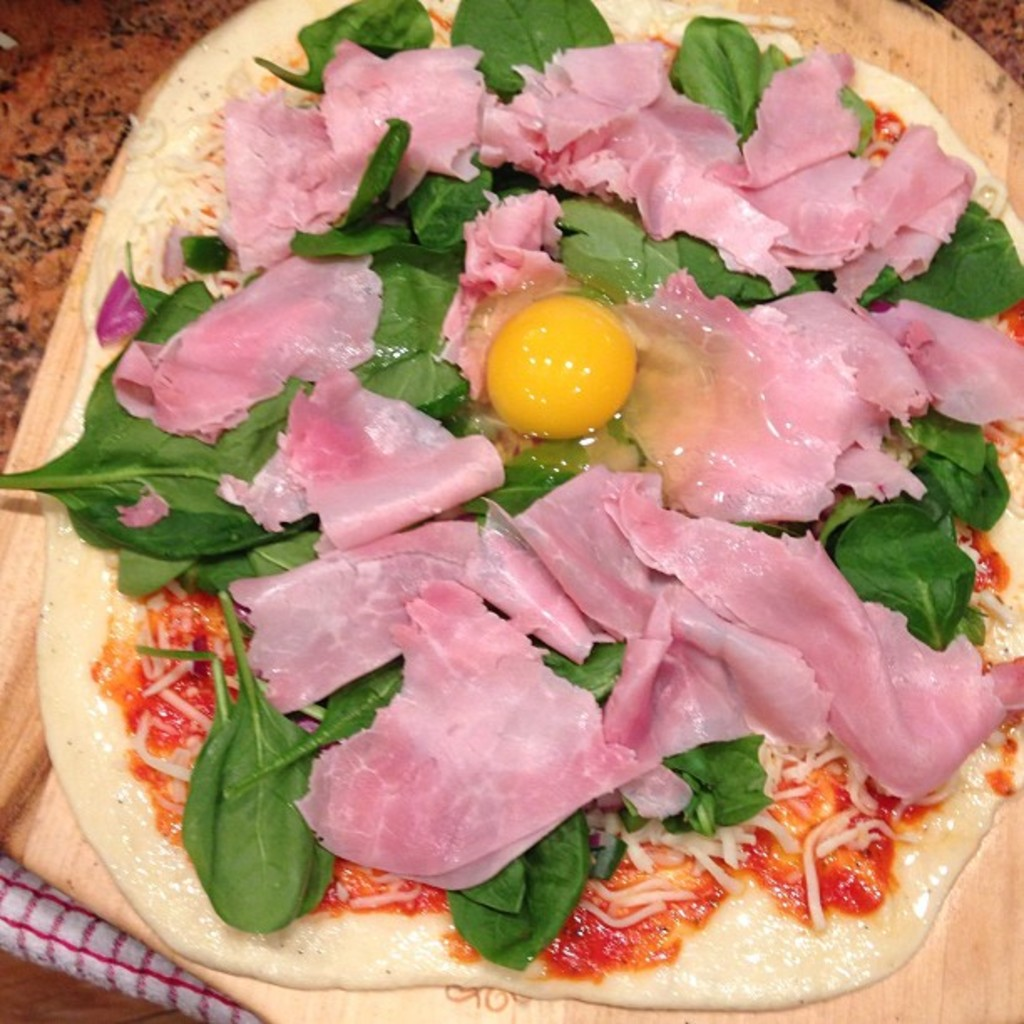Pizza: (0, 0, 1022, 997)
